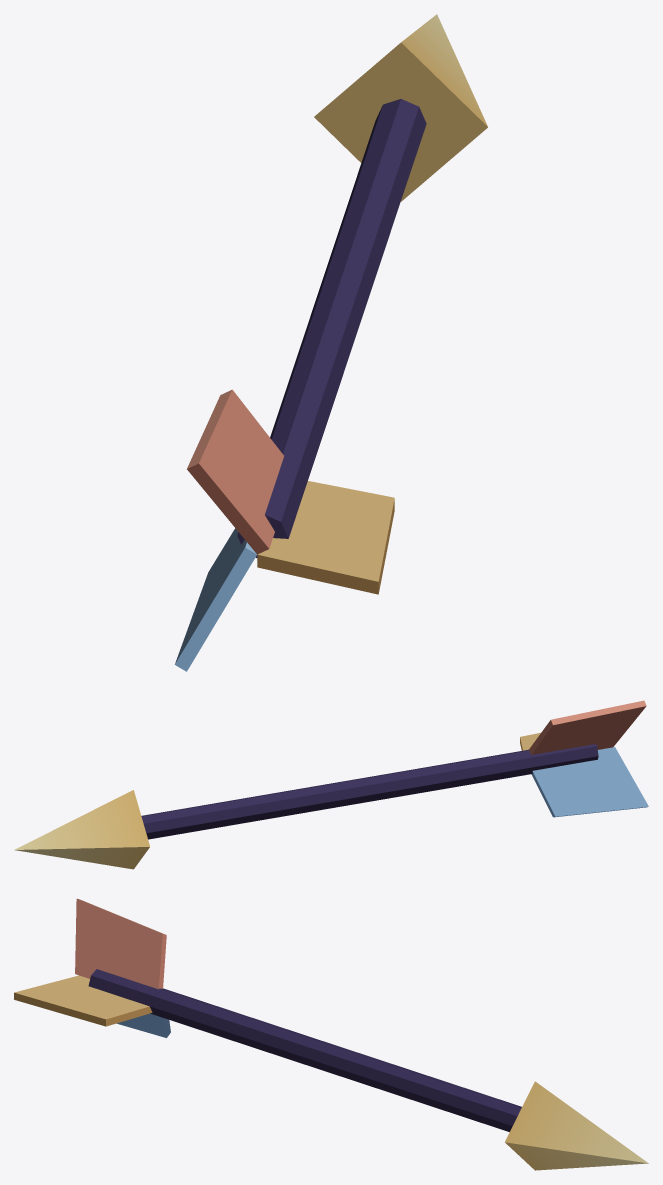
The model's file is Fusion_Arrow.glb.
3 views of the same model, one above another, from view 1: azimuth 30°, elevation 25°; view 2: azimuth 150°, elevation 25°; view 3: azimuth 270°, elevation 25° (orthographic). The views are drawn at different scales.
Visible parts, largest first — view 1: Fusion_Arrow; view 2: Fusion_Arrow; view 3: Fusion_Arrow.
Boxes of the visible parts, bbox=[...] form: Fusion_Arrow: bbox=[174, 14, 487, 671]; Fusion_Arrow: bbox=[14, 700, 648, 869]; Fusion_Arrow: bbox=[14, 898, 648, 1170].
Bounding box in the file's own units: 0.7534 × 0.1965 × 0.9661.
